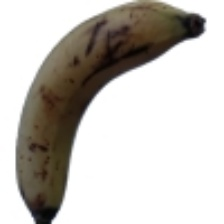banana: (25, 24, 204, 182)
